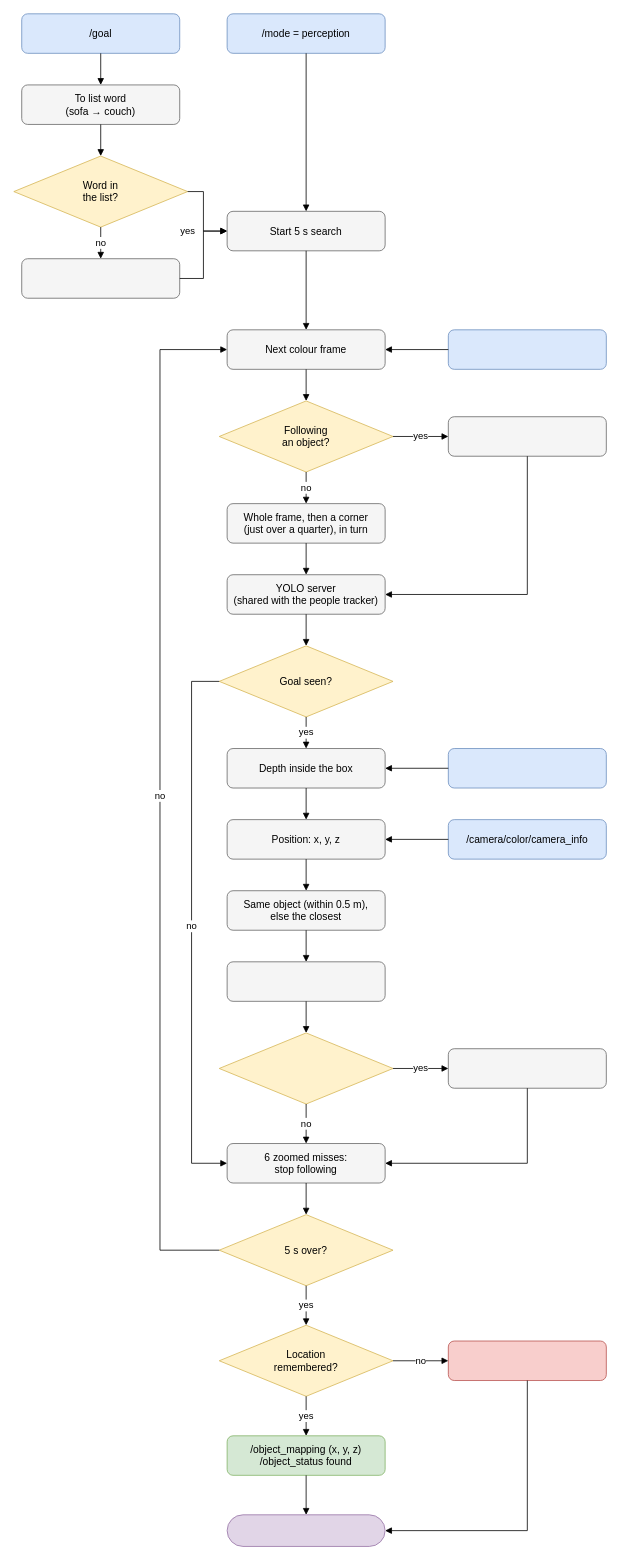
The diagram is 620 pixels wide and 1560 high, and some of its shapes have lost their labels. Here are the shapes that lost their labels. From the top down, the box of each, then its label:
(21, 258, 180, 298): YOLO server learns the new word (takes seconds)
(448, 329, 606, 369): /camera/color/image_raw
(448, 416, 606, 456): Zoomed crop, 4× the object
(448, 748, 606, 788): /camera/depth_registered
(226, 961, 385, 1001): Count the sighting
(218, 1032, 393, 1104): 3 sightings, 1 of them zoomed?
(448, 1048, 606, 1088): Remember its location
(448, 1340, 606, 1381): /object_status not_found
(226, 1514, 385, 1546): Idle
